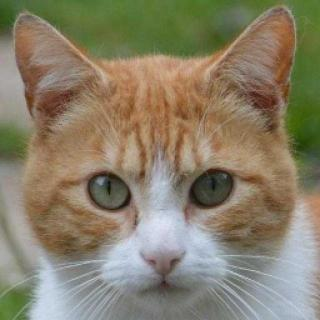cat: (12, 8, 300, 306)
nose: (129, 212, 202, 280)
